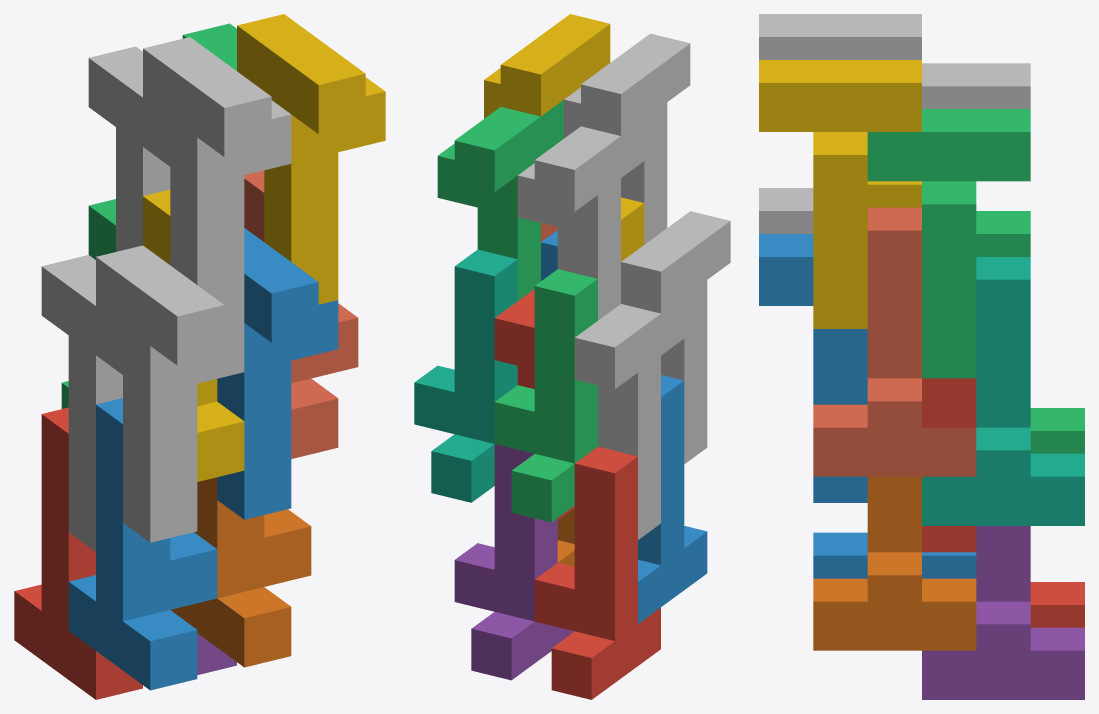
Rendered from tiling.obj.
3 renders of one model, left to right at view 1: azimuth 30°, elevation 25°; view 2: azimuth 150°, elevation 25°; view 3: azimuth 270°, elevation 25°, orthographic. The views are drawn at different scales.
Parts seen in each view (by area): view 1: copy_2_domain_2, copy_2_domain_4, copy_2_domain_8, copy_1_domain_2, copy_2_domain_6, copy_1_domain_6, copy_1_domain_1, copy_2_domain_1, copy_2_domain_3, copy_1_domain_8, copy_1_domain_4, copy_1_domain_3 (+2 smaller); view 2: copy_1_domain_1, copy_1_domain_3, copy_1_domain_7, copy_1_domain_5, copy_2_domain_3, copy_2_domain_1, copy_2_domain_7, copy_2_domain_2, copy_2_domain_4, copy_1_domain_2, copy_2_domain_8, copy_2_domain_5 (+3 smaller); view 3: copy_2_domain_8, copy_1_domain_8, copy_2_domain_7, copy_1_domain_7, copy_1_domain_6, copy_1_domain_5, copy_2_domain_6, copy_2_domain_4, copy_1_domain_3, copy_2_domain_3, copy_2_domain_5, copy_1_domain_2 (+3 smaller).
Boxes of the visible parts, x1,y1,x2,y2 form: copy_2_domain_2: (96,245,244,542); copy_2_domain_4: (143,37,291,327); copy_2_domain_8: (237,14,385,304); copy_1_domain_2: (68,398,217,690); copy_2_domain_6: (217,228,338,519); copy_1_domain_6: (170,477,311,667); copy_1_domain_1: (14,407,142,699); copy_2_domain_1: (41,255,122,551); copy_2_domain_3: (88,46,170,251); copy_1_domain_8: (244,170,358,458); copy_1_domain_4: (143,189,244,481); copy_1_domain_3: (61,199,115,408); copy_1_domain_1: (534,446,660,699); copy_1_domain_3: (494,269,597,522); copy_1_domain_7: (414,249,517,502); copy_1_domain_5: (454,444,574,680); copy_2_domain_3: (517,119,644,320); copy_2_domain_1: (574,297,684,539); copy_2_domain_7: (437,100,563,300); copy_2_domain_2: (621,211,730,463); copy_2_domain_4: (564,33,690,244); copy_1_domain_2: (638,375,707,623); copy_2_domain_8: (484,14,610,118); copy_2_domain_5: (494,289,574,520); copy_2_domain_8: (759,60,921,328); copy_1_domain_8: (813,207,976,476); copy_2_domain_7: (867,109,1030,378); copy_1_domain_7: (922,257,1084,525); copy_1_domain_6: (813,476,976,650); copy_1_domain_5: (922,526,1084,699); copy_2_domain_6: (759,234,867,502); copy_2_domain_4: (759,14,921,59); copy_1_domain_3: (976,211,1084,453); copy_2_domain_3: (922,63,1030,108); copy_2_domain_5: (922,378,976,552); copy_1_domain_2: (813,532,976,578).
Bounding box in the file's own units: 5 × 13 × 6.
